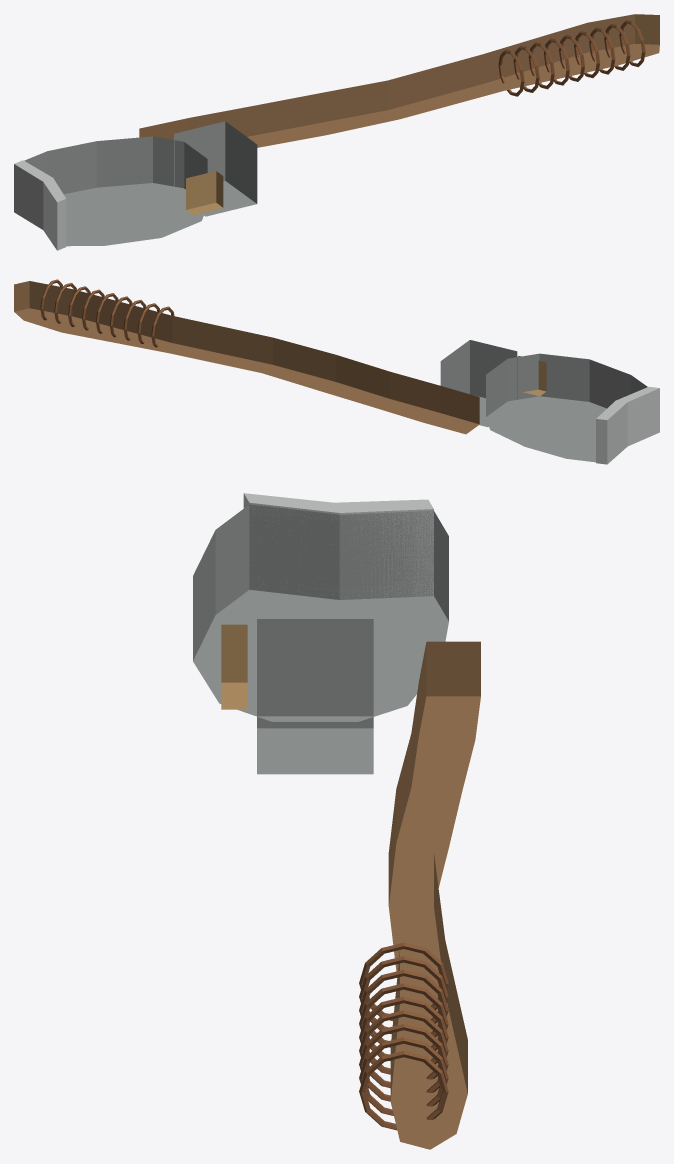
The model's file is axe.glb.
The picture shows the model from 3 angles, top to bottom: view 1: azimuth 30°, elevation 25°; view 2: azimuth 150°, elevation 25°; view 3: azimuth 270°, elevation 25°; orthographic projection. The views are drawn at different scales.
Parts seen in each view (by area): view 1: curved_hardwood_handle, forged_axe_head, poll, sharpened_edge, wood_wedge, grip_wrap_0, grip_wrap_2, grip_wrap_8, grip_wrap_6, grip_wrap_4, grip_wrap_3, grip_wrap_5 (+2 smaller); view 2: curved_hardwood_handle, forged_axe_head, sharpened_edge, poll, wood_wedge; view 3: forged_axe_head, curved_hardwood_handle, poll, sharpened_edge, wood_wedge, grip_wrap_8, grip_wrap_7, grip_wrap_6, grip_wrap_5, grip_wrap_4, grip_wrap_0, grip_wrap_1 (+2 smaller).
Boxes of the visible parts, x1,y1,x2,y2 form: curved_hardwood_handle: [139, 14, 659, 147]; forged_axe_head: [24, 136, 207, 246]; poll: [174, 121, 257, 216]; sharpened_edge: [14, 160, 66, 250]; wood_wedge: [186, 171, 223, 215]; grip_wrap_0: [498, 49, 524, 96]; grip_wrap_2: [528, 42, 554, 89]; grip_wrap_8: [619, 20, 645, 67]; grip_wrap_6: [589, 27, 615, 74]; grip_wrap_4: [559, 35, 584, 81]; grip_wrap_3: [544, 38, 569, 85]; grip_wrap_5: [574, 31, 600, 78]; curved_hardwood_handle: [14, 281, 479, 434]; forged_axe_head: [486, 353, 647, 462]; sharpened_edge: [596, 386, 659, 464]; poll: [440, 340, 517, 427]; wood_wedge: [517, 356, 546, 396]; forged_axe_head: [193, 504, 448, 721]; curved_hardwood_handle: [388, 641, 480, 1149]; poll: [257, 619, 373, 774]; sharpened_edge: [243, 493, 433, 599]; wood_wedge: [221, 624, 247, 709]; grip_wrap_8: [359, 1051, 448, 1130]; grip_wrap_7: [359, 1037, 448, 1115]; grip_wrap_6: [359, 1024, 448, 1101]; grip_wrap_5: [359, 1010, 448, 1088]; grip_wrap_4: [359, 997, 448, 1074]; grip_wrap_0: [359, 942, 448, 1020]; grip_wrap_1: [359, 956, 448, 1034].
Bounding box in the file's own units: 7.35 × 0.64 × 1.53.
